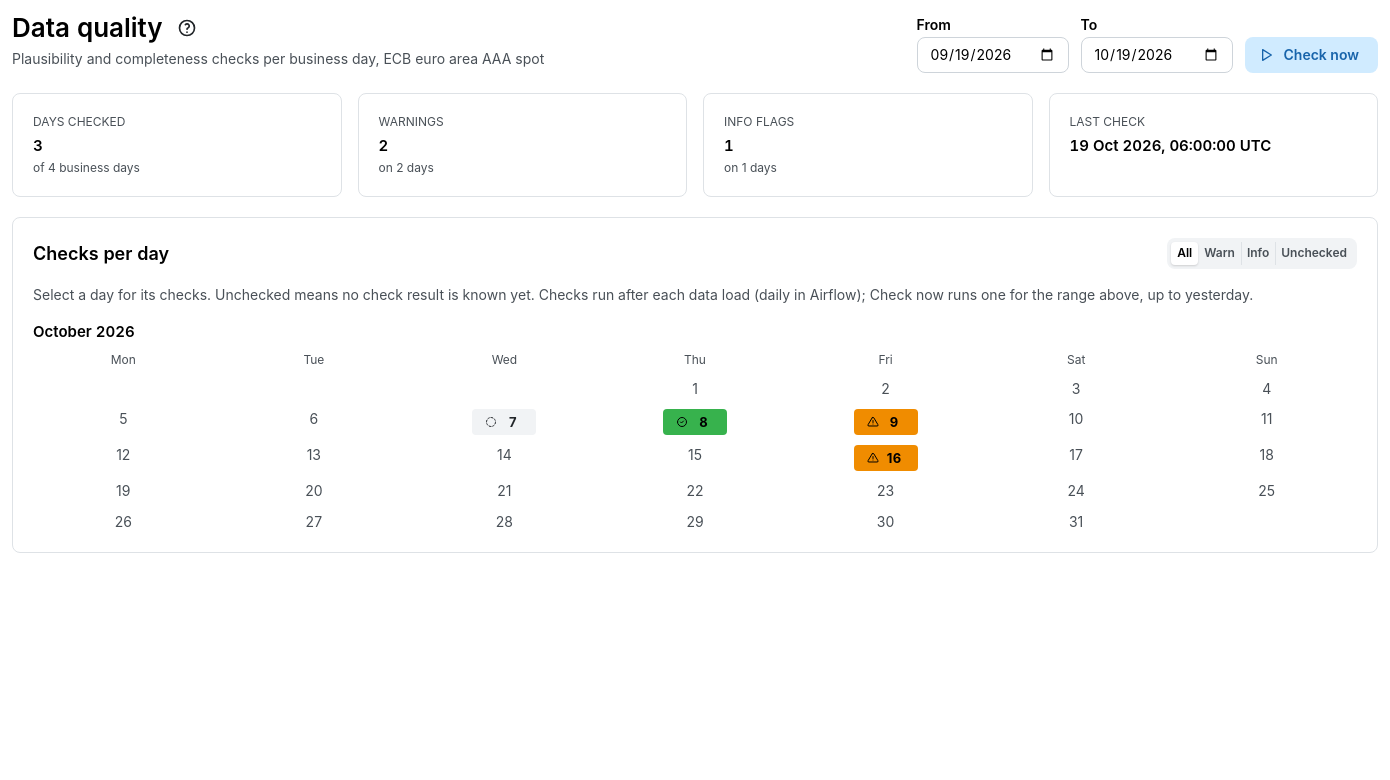
Scenario: QualityView › To before From shows the error and does not fetch
The width and height of the screenshot is (1390, 780).
Expected: the button named "2026-10-16, Warn" is shown, left=854, top=445, right=918, bottom=471
Type "2026-09-01" into the date field labelled "To" at point(1156, 55), box left=1080, top=37, right=1232, bottom=73
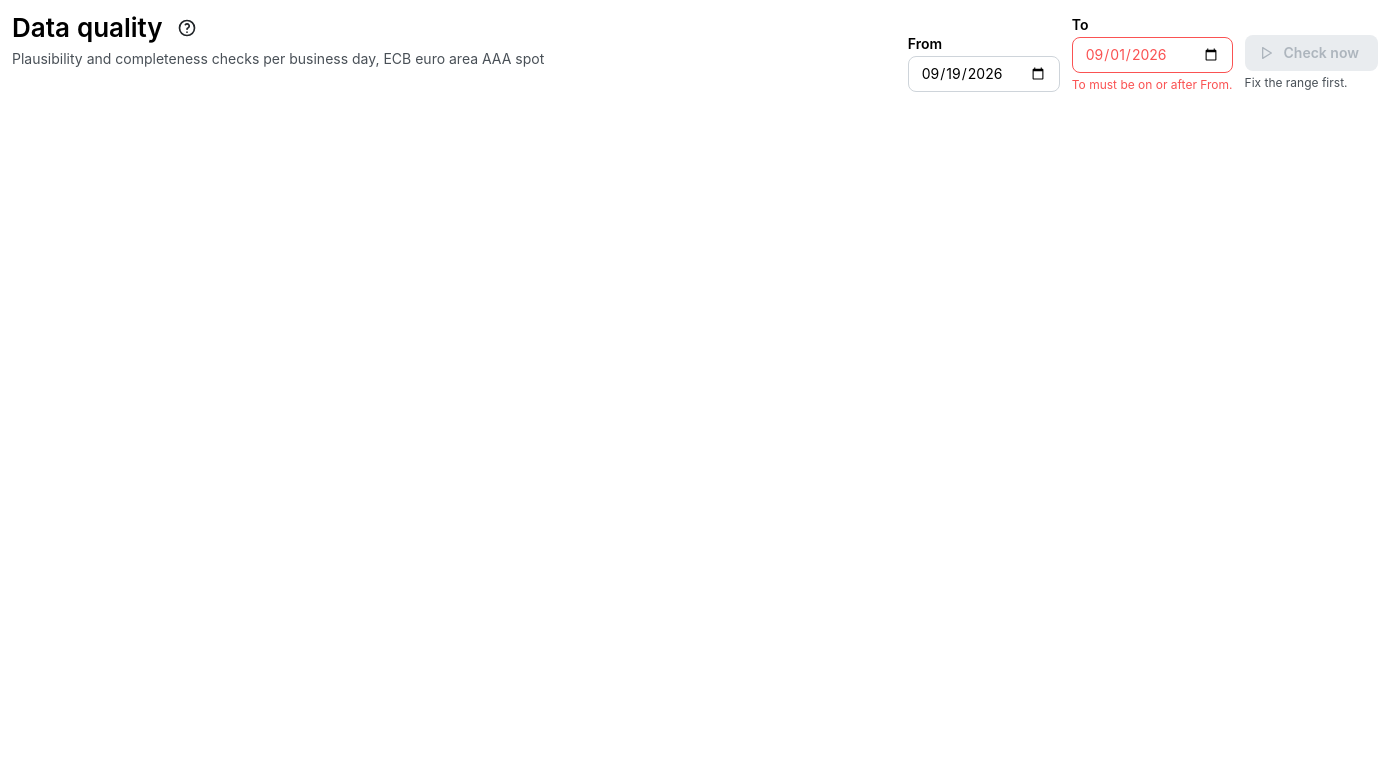
Expected: the text "To must be on or after From." is shown, left=1072, top=78, right=1233, bottom=92
